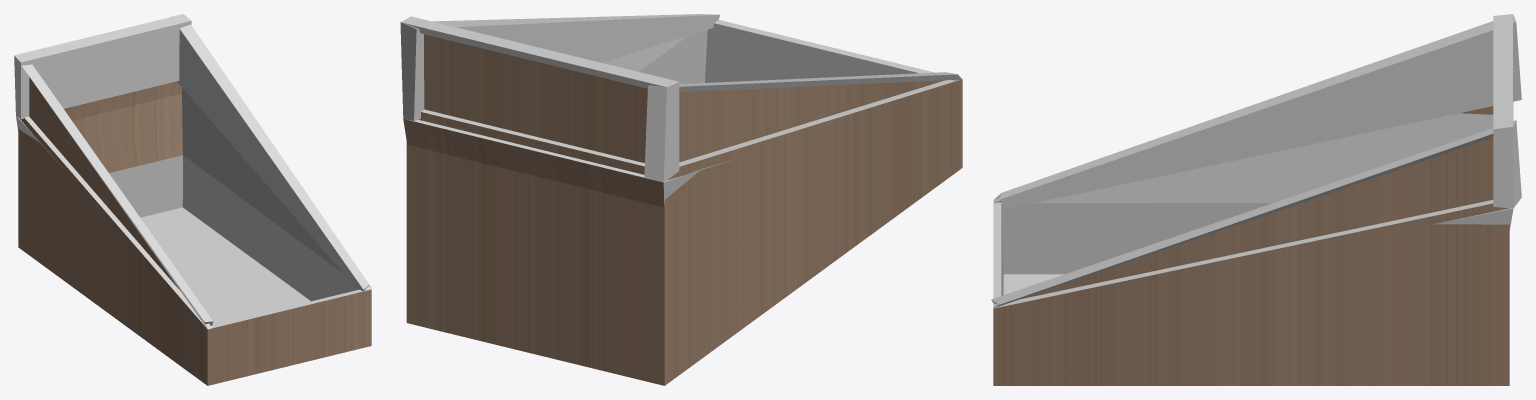
File: VisitingCardHolder.gltf
3 renders of one model, left to right at view 1: azimuth 30°, elevation 25°; view 2: azimuth 150°, elevation 25°; view 3: azimuth 270°, elevation 25°, orthographic. The views are drawn at different scales.
Parts seen in each view (by area): view 1: Plane; view 2: Plane; view 3: Plane.
Boxes of the visible parts, <box> form: Plane: <box>14,14,371,385</box>; Plane: <box>400,14,962,385</box>; Plane: <box>991,14,1521,385</box>.
Size of the model in its own units: 2.08 by 2.23 by 4.11.
5 materials, 4 textured.
